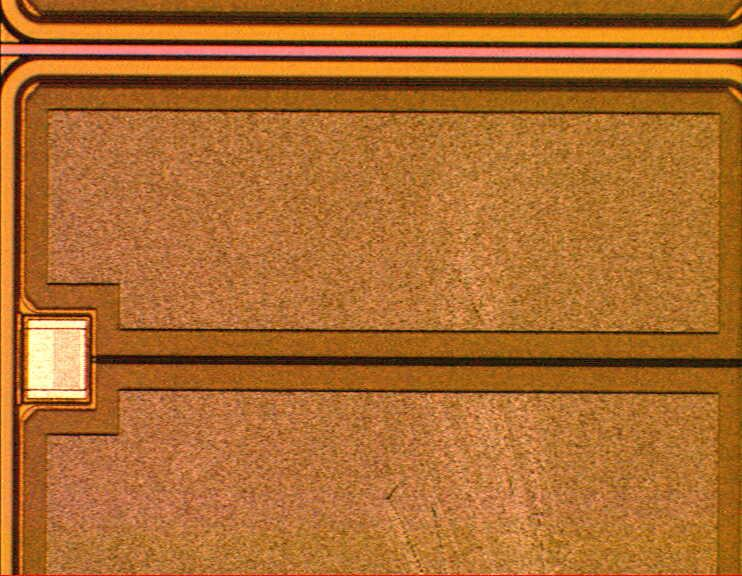SCRATCH: (363, 143, 591, 576)
